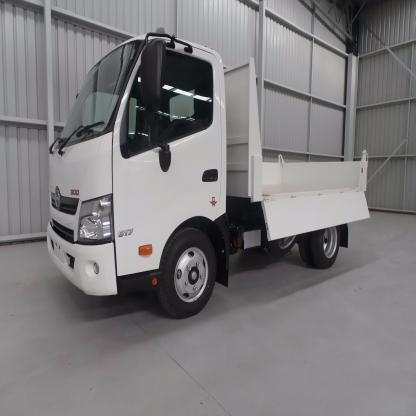dump_truck: (38, 20, 376, 329)
